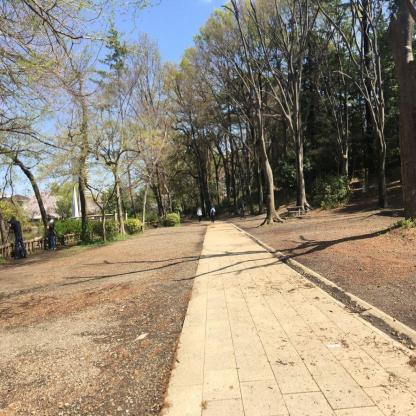Someiyoshino: (18, 186, 63, 223), (84, 196, 102, 216)
